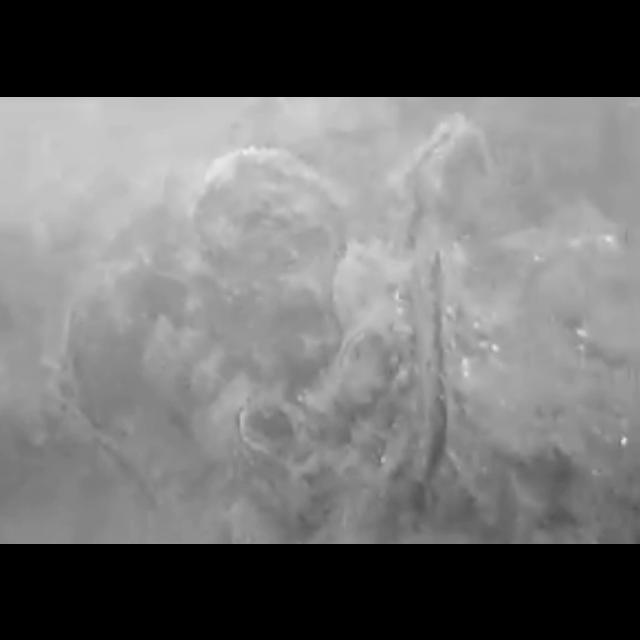Oyster-Closed: (186, 146, 350, 364)
Oyster-Open: (404, 243, 470, 499), (389, 111, 498, 259), (226, 389, 320, 471), (334, 318, 398, 408)
